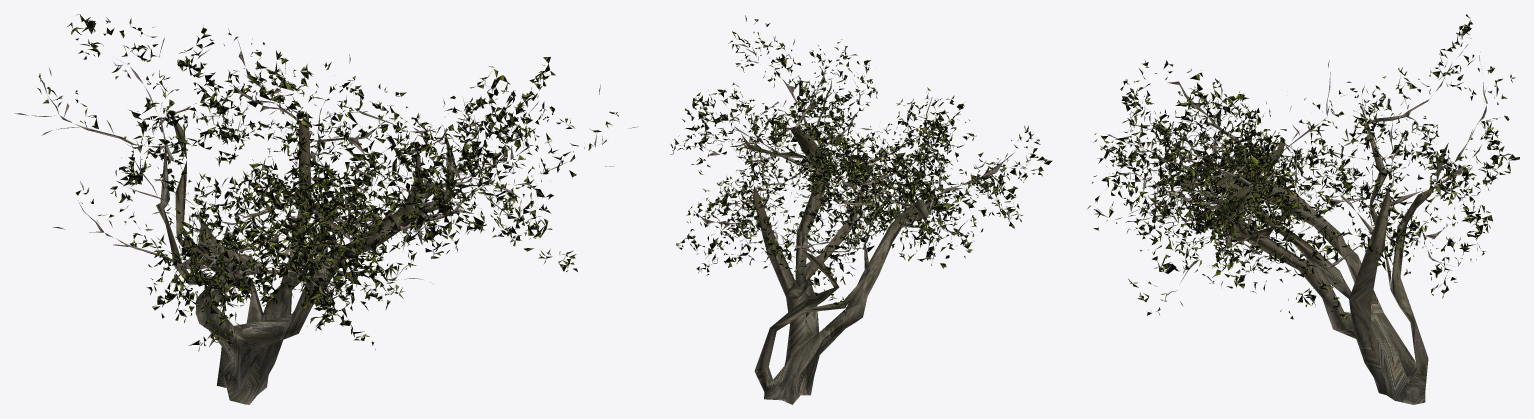
Rendered from island_tree_02_lod1.glb.
3 views of the same model, side by side, from view 1: azimuth 30°, elevation 25°; view 2: azimuth 150°, elevation 25°; view 3: azimuth 270°, elevation 25° (orthographic). The views are drawn at different scales.
Visible parts, largest first — view 1: island_tree_02_LOD0; view 2: island_tree_02_LOD0; view 3: island_tree_02_LOD0.
Part boxes in pixels (x1=…): island_tree_02_LOD0: x1=15, y1=14, x2=638, y2=404; island_tree_02_LOD0: x1=670, y1=15, x2=1052, y2=404; island_tree_02_LOD0: x1=1087, y1=14, x2=1519, y2=404.
Size of the model in its own units: 4.21 by 3.34 by 4.05.
Materials: 3 (3 with a texture image).
